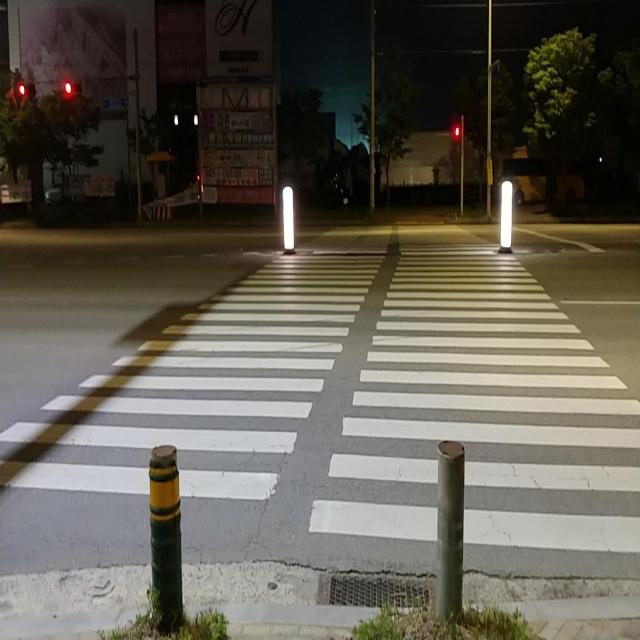빨간불: (453, 124, 462, 157)
횡단보도: (0, 237, 640, 557)
